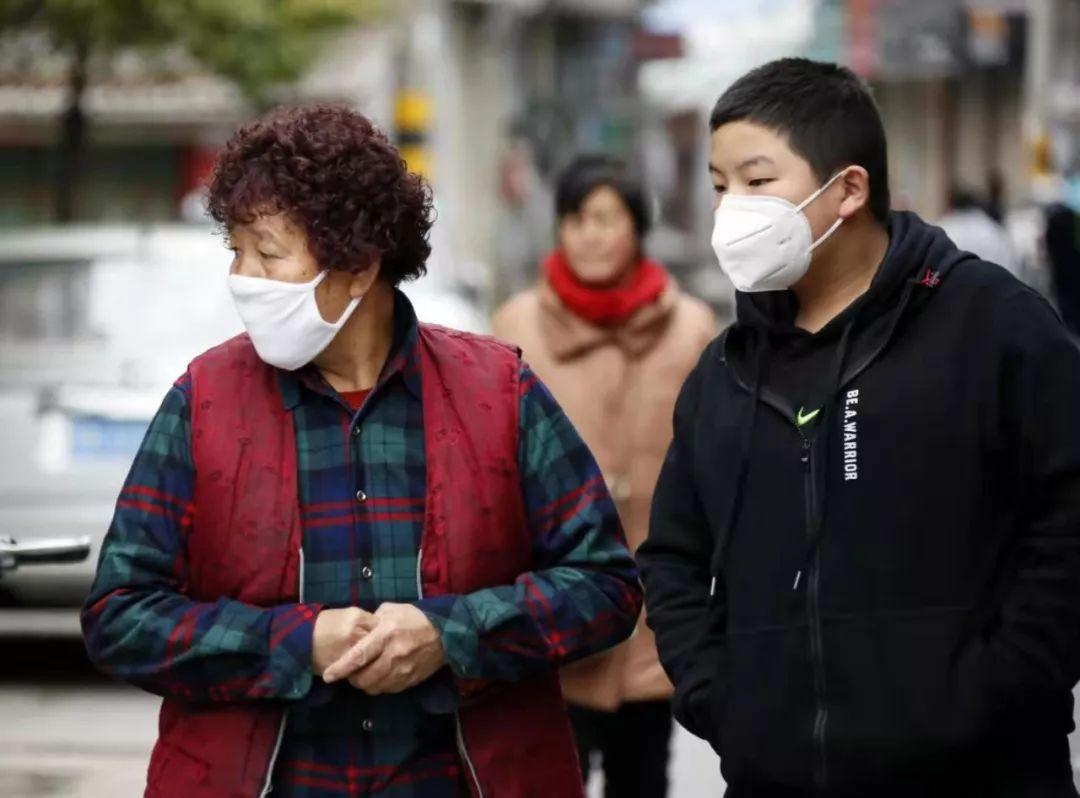mask: (214, 164, 373, 379), (707, 107, 840, 298)
